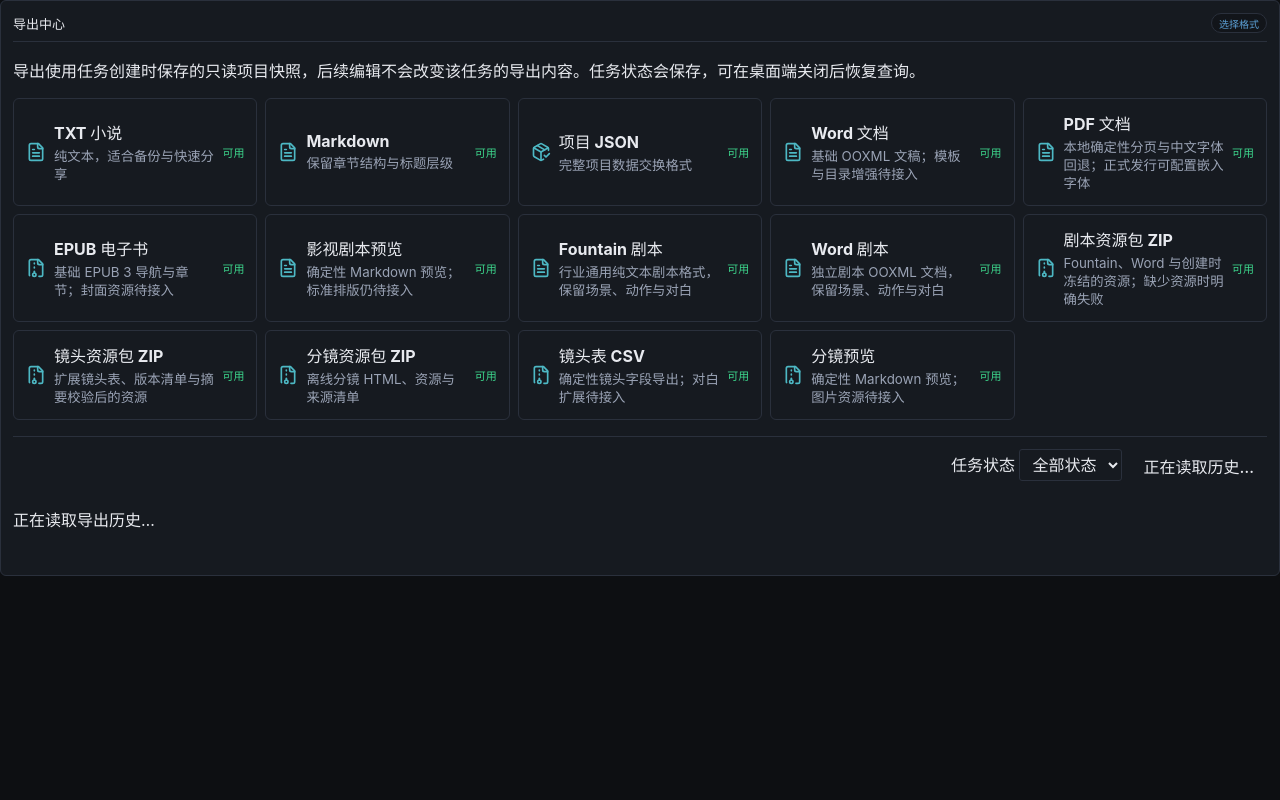
it: ExportPanel industry formats › shows a cancellation error without inventing a cancelled job or a download
Step 1. Click the button "Fountain 剧本 行业通用纯文本剧本格式，保留场景、动作与对白 可用" → coordinates (640, 268), box [518,214,762,322]
(page scrolled)
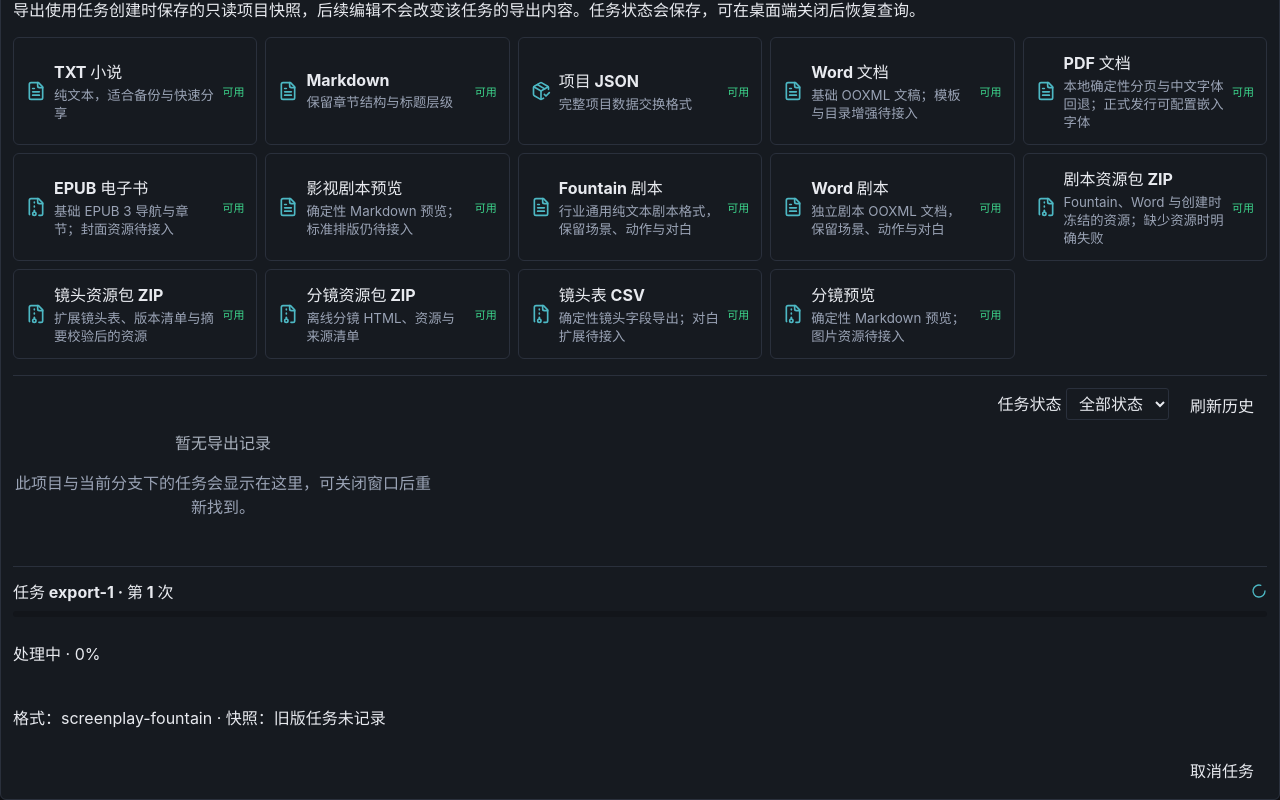
Step 2. Click the button "取消任务" → coordinates (1222, 770), box [1177,753,1267,787]
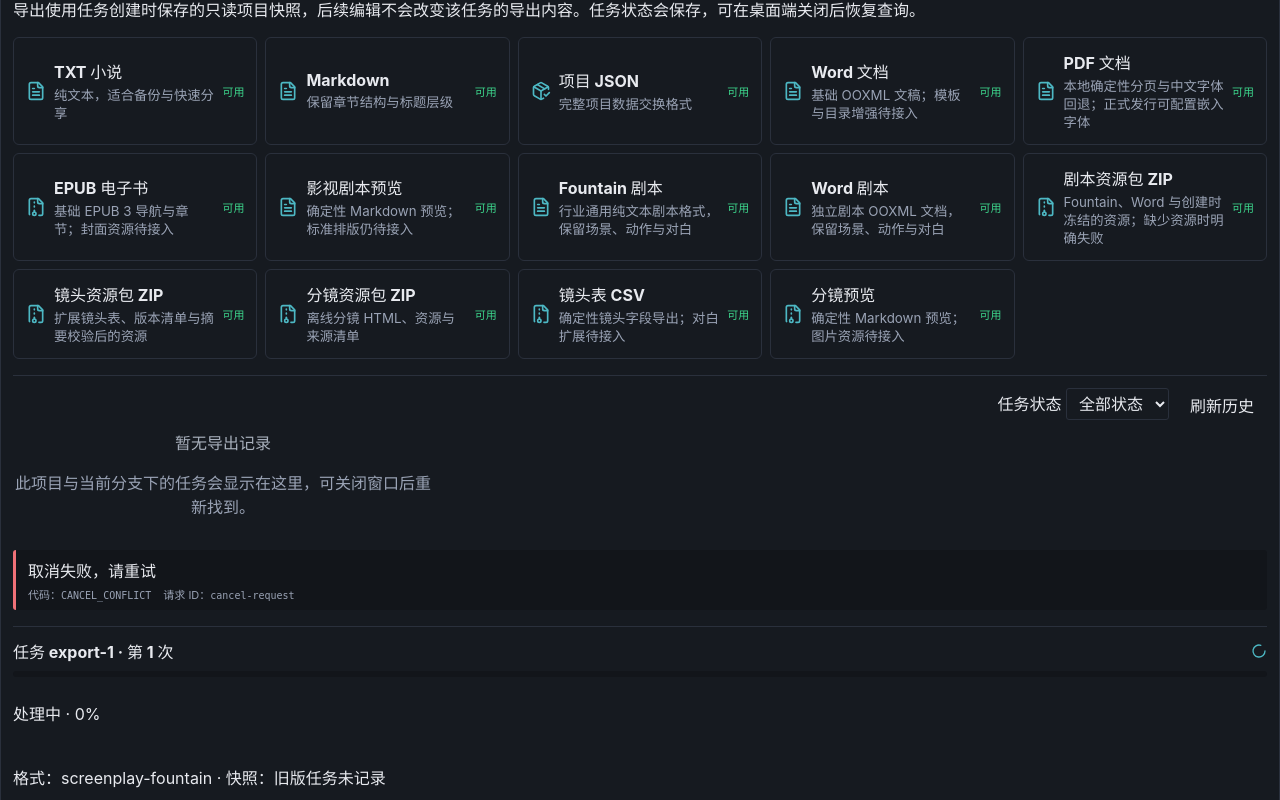
Expected: the text "CANCEL_CONFLICT" is shown, [61,590,151,601]
Expected: the text "cancel-request" is shown, [210,590,295,601]
